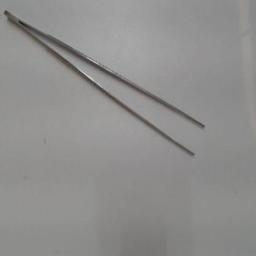DeBakey Dissector: (4, 4, 218, 178)
